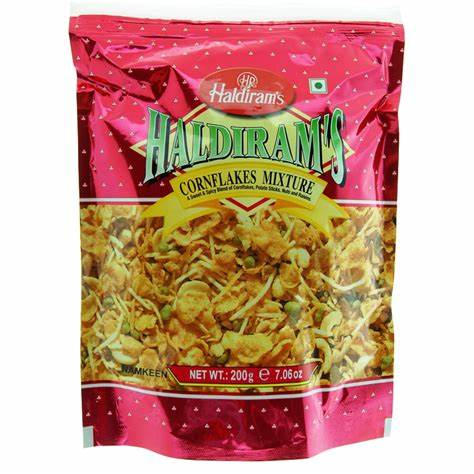VEG: (308, 76, 329, 95)
